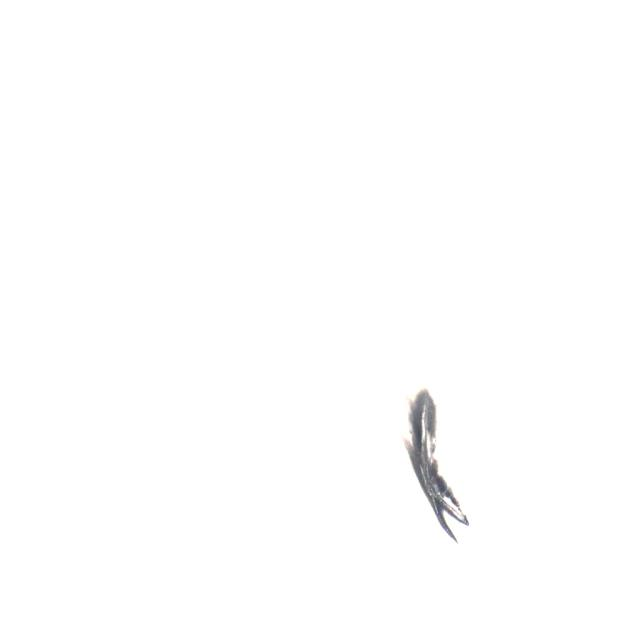crack: (388, 380, 478, 545)
